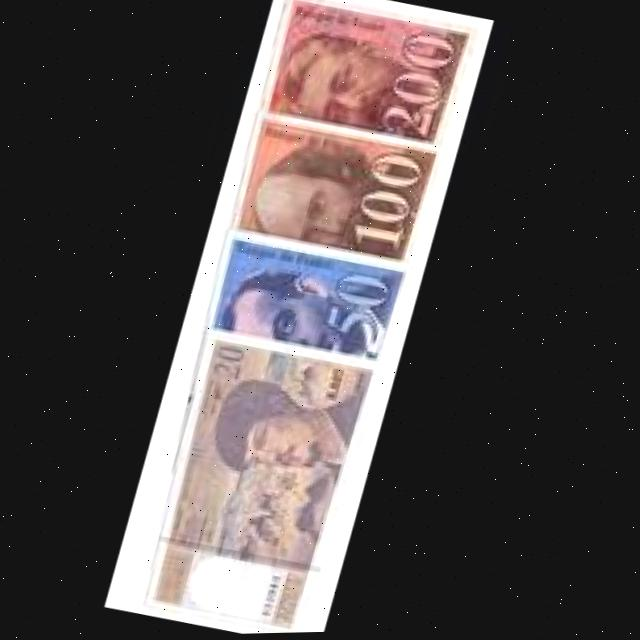banknote: (135, 327, 386, 637), (255, 0, 474, 160), (219, 113, 438, 265), (201, 230, 416, 370), (371, 20, 465, 144), (340, 149, 437, 260), (313, 265, 412, 356), (213, 340, 258, 383)
